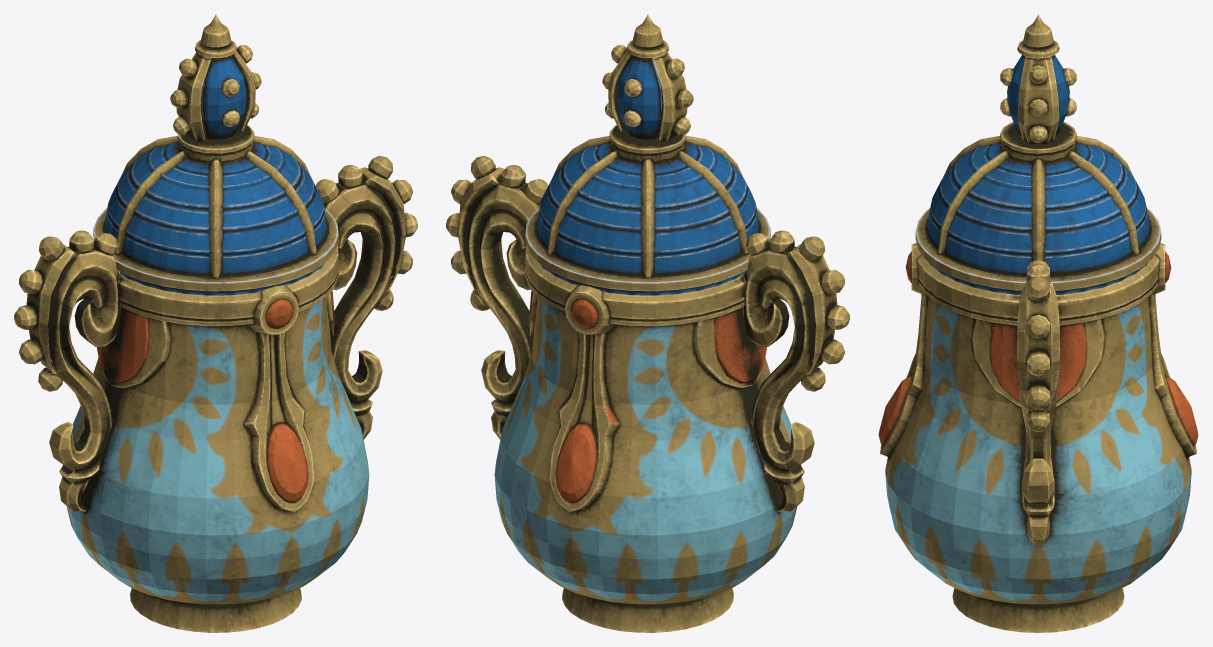
The model's file is Furniture05.fbx.
3 renders of one model, left to right at view 1: azimuth 30°, elevation 25°; view 2: azimuth 150°, elevation 25°; view 3: azimuth 270°, elevation 25°, orthographic.
Parts seen in each view (by area): view 1: TO14_SM_GRN_Bld_Furniture04.mo; view 2: TO14_SM_GRN_Bld_Furniture04.mo; view 3: TO14_SM_GRN_Bld_Furniture04.mo.
Boxes of the visible parts, <box> form: TO14_SM_GRN_Bld_Furniture04.mo: <box>14,14,417,632</box>; TO14_SM_GRN_Bld_Furniture04.mo: <box>446,14,849,632</box>; TO14_SM_GRN_Bld_Furniture04.mo: <box>878,14,1198,632</box>.
Bounding box in the file's own units: 216 × 299 × 149.
1 material, 1 textured.
